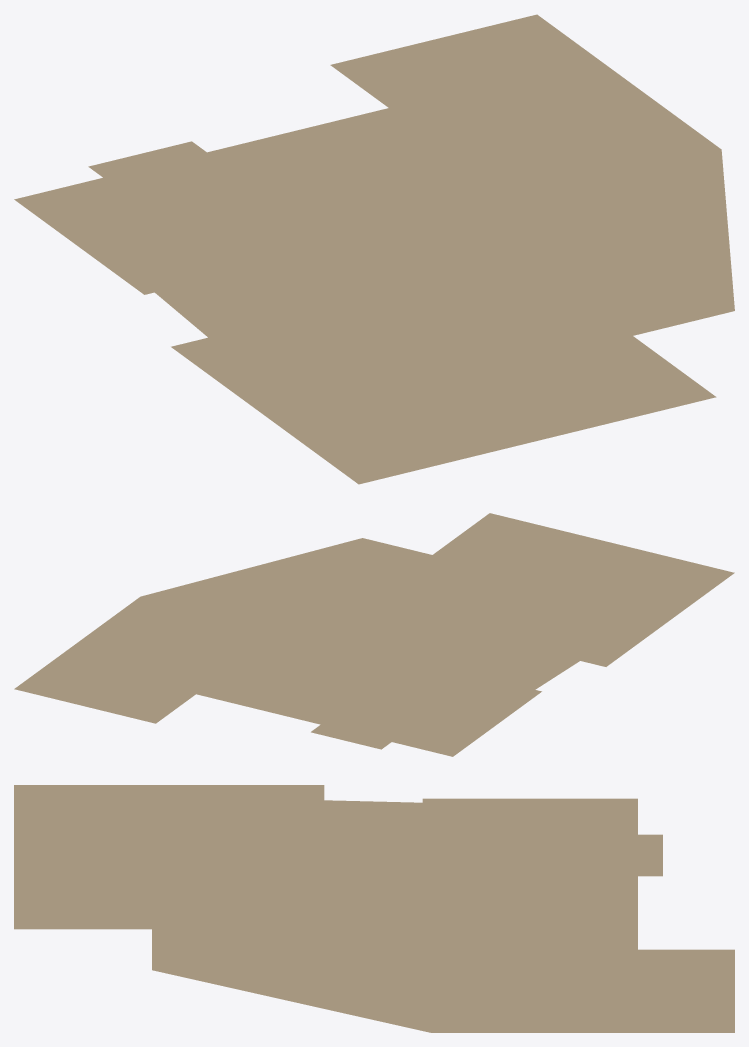
The picture shows the model from 3 angles, top to bottom: view 1: azimuth 30°, elevation 25°; view 2: azimuth 150°, elevation 25°; view 3: azimuth 270°, elevation 25°; orthographic projection. The views are drawn at different scales.
Visible parts, largest first — view 1: B-GF-FLOOR; view 2: B-GF-FLOOR; view 3: B-GF-FLOOR.
Boxes of the visible parts, bbox=[...] form: B-GF-FLOOR: bbox=[14, 14, 734, 484]; B-GF-FLOOR: bbox=[14, 513, 734, 756]; B-GF-FLOOR: bbox=[14, 785, 734, 1032].
Bounding box in the file's own units: 12.69 × 3.47e-15 × 15.61.
